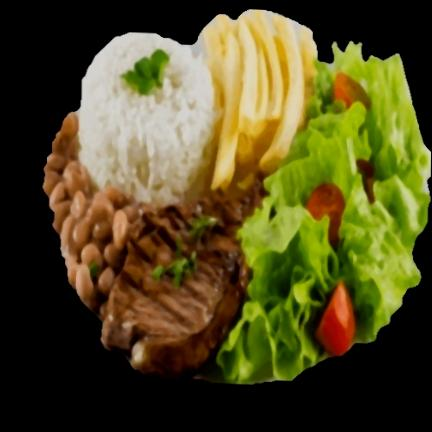beans: (44, 107, 156, 316)
meat: (96, 182, 259, 382)
potato: (186, 9, 321, 194)
rice: (78, 31, 220, 200)
salad: (223, 42, 431, 382)
